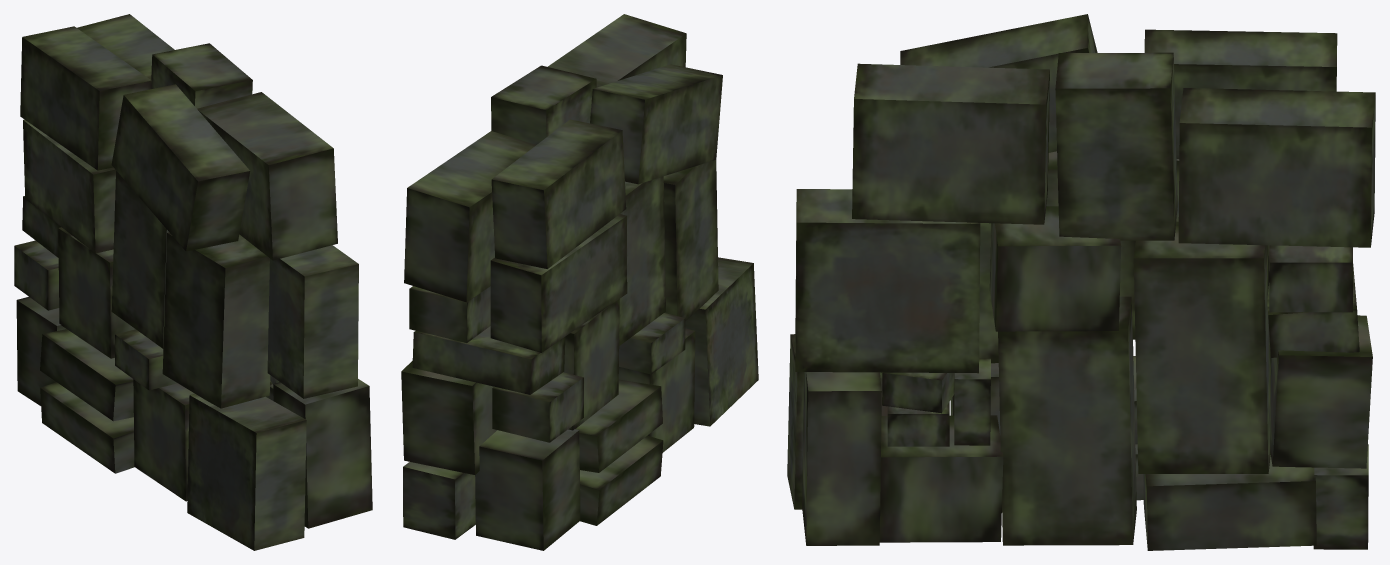
The model's file is ruin-wall-01.fbx.
3 renders of one model, left to right at view 1: azimuth 30°, elevation 25°; view 2: azimuth 150°, elevation 25°; view 3: azimuth 270°, elevation 25°, orthographic. The views are drawn at different scales.
Parts seen in each view (by area): view 1: wall_01; view 2: wall_01; view 3: wall_01.
Part boxes in pixels (x1,y1,x2,y2): wall_01: (14, 14, 372, 550); wall_01: (401, 14, 758, 550); wall_01: (787, 14, 1375, 550).
Bounding box in the file's own units: 180 × 411 × 475.
